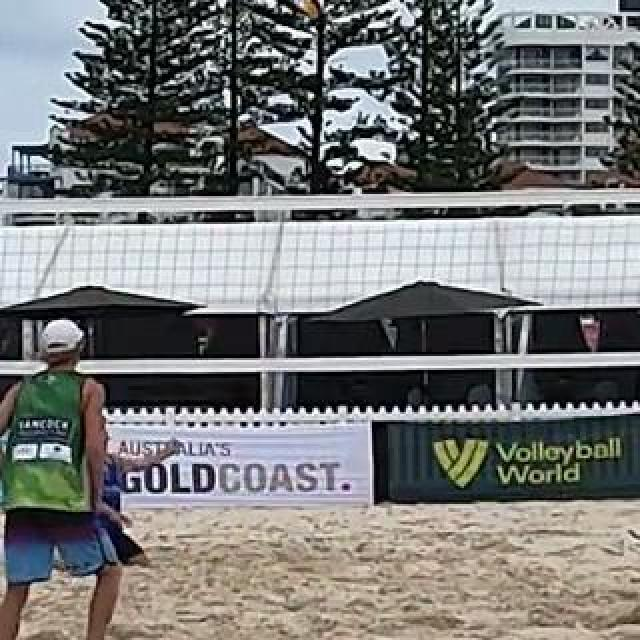volleyball: (294, 2, 324, 18)
